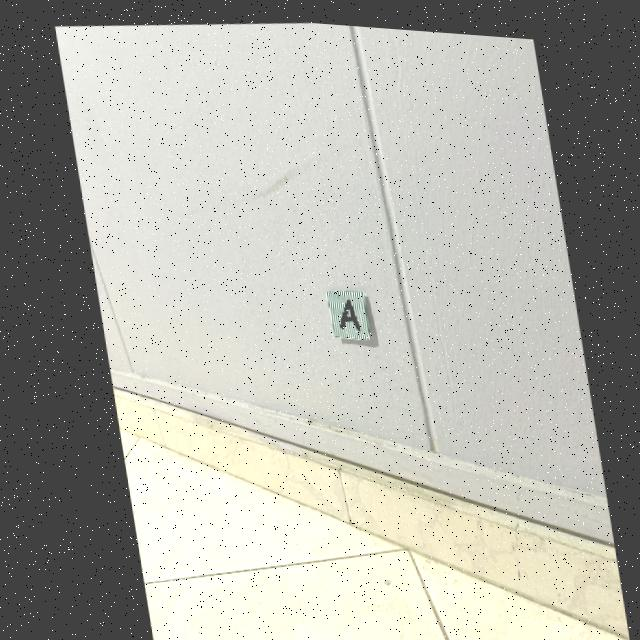A: (335, 294, 356, 326)
